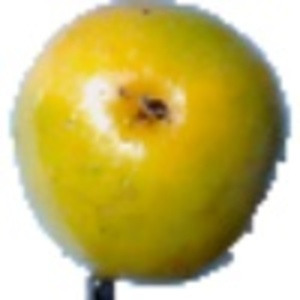maracujá: (7, 1, 294, 300)
